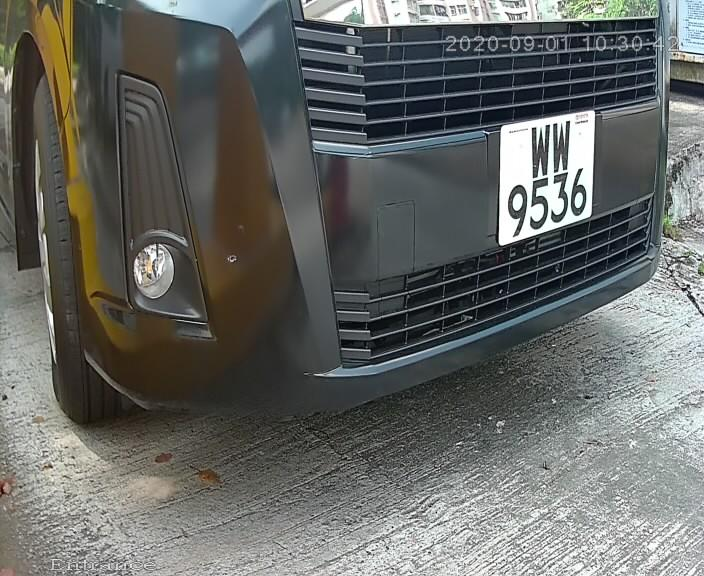License Plate: (491, 98, 604, 255)
